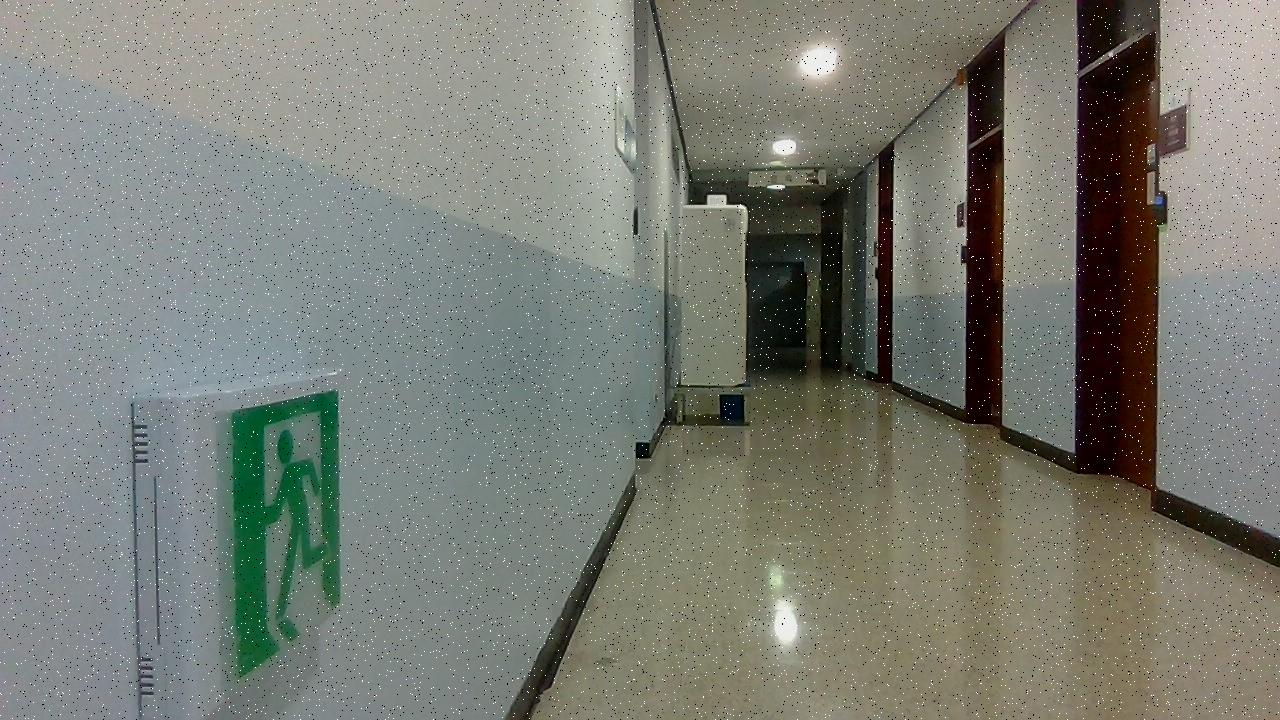emergency_exit: (228, 388, 342, 679), (1157, 104, 1189, 157)
